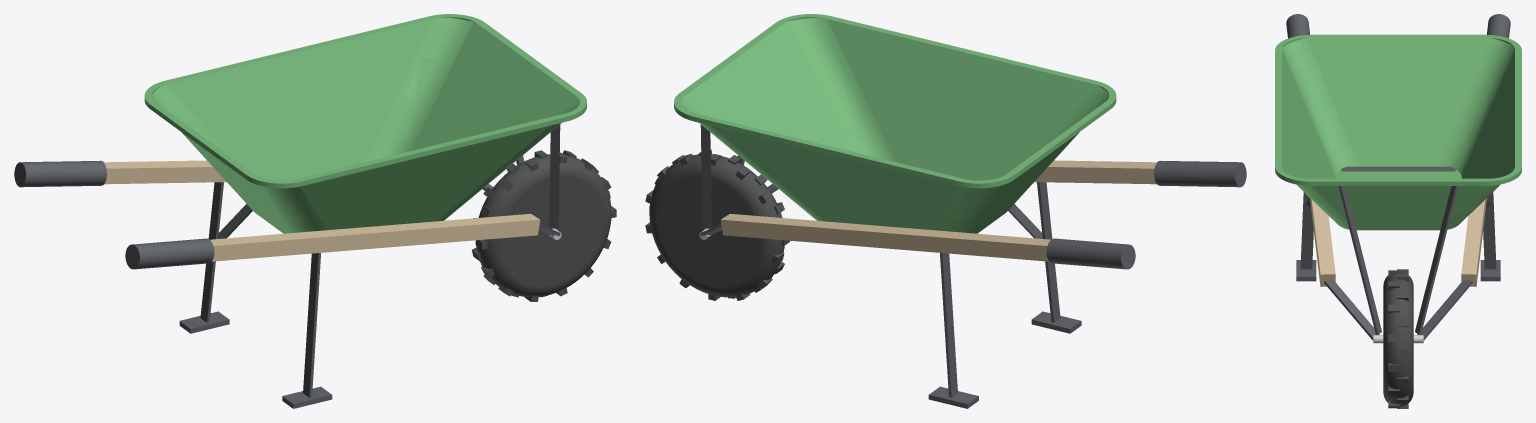
Rendered from Contractor_Wheelbarrow.glb.
The picture shows the model from 3 angles, left to right: view 1: azimuth 30°, elevation 25°; view 2: azimuth 150°, elevation 25°; view 3: azimuth 270°, elevation 25°; orthographic projection. The views are drawn at different scales.
Visible parts, largest first — view 1: tray, tyre, handles, frame, grips; view 2: tray, tyre, handles, frame, grips; view 3: tray, frame, tyre, handles, grips.
Part boxes in pixels (<box>): tray: <box>144,14,586,233</box>; tyre: <box>472,150,616,301</box>; handles: <box>104,160,540,261</box>; frame: <box>179,124,560,408</box>; grips: <box>14,160,214,269</box>; tray: <box>674,14,1116,233</box>; tyre: <box>645,149,790,300</box>; handles: <box>720,160,1156,261</box>; frame: <box>700,124,1081,408</box>; grips: <box>1046,160,1246,269</box>; tray: <box>1275,34,1521,230</box>; frame: <box>1296,166,1500,340</box>; tyre: <box>1383,269,1413,408</box>; handles: <box>1310,198,1486,286</box>; grips: <box>1286,14,1510,38</box>.
Bounding box in the file's own units: 1.66 × 0.711 × 0.736.
